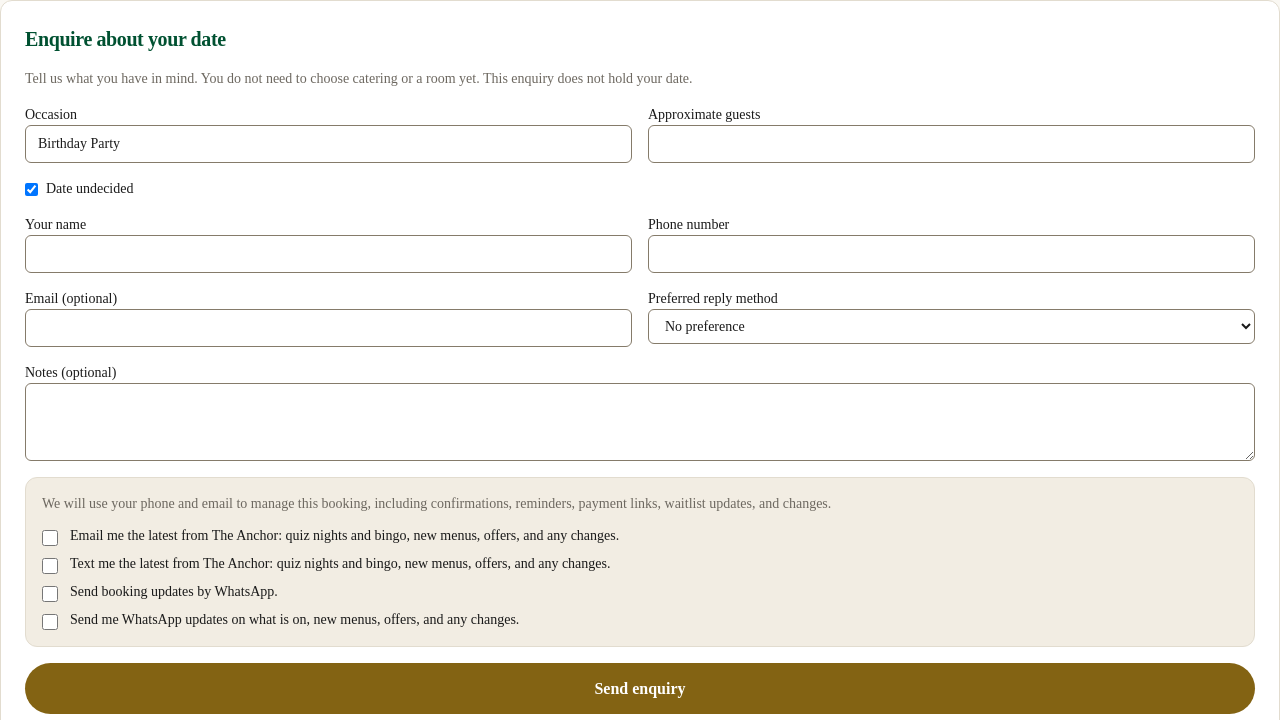
Scenario: undecided enquiry keeps occasion, space, large party and explicit consent without a dummy date or booking items
Type "250" into the number field labelled "Approximate guests" at x=952, y=144, box [648, 125, 1255, 163]
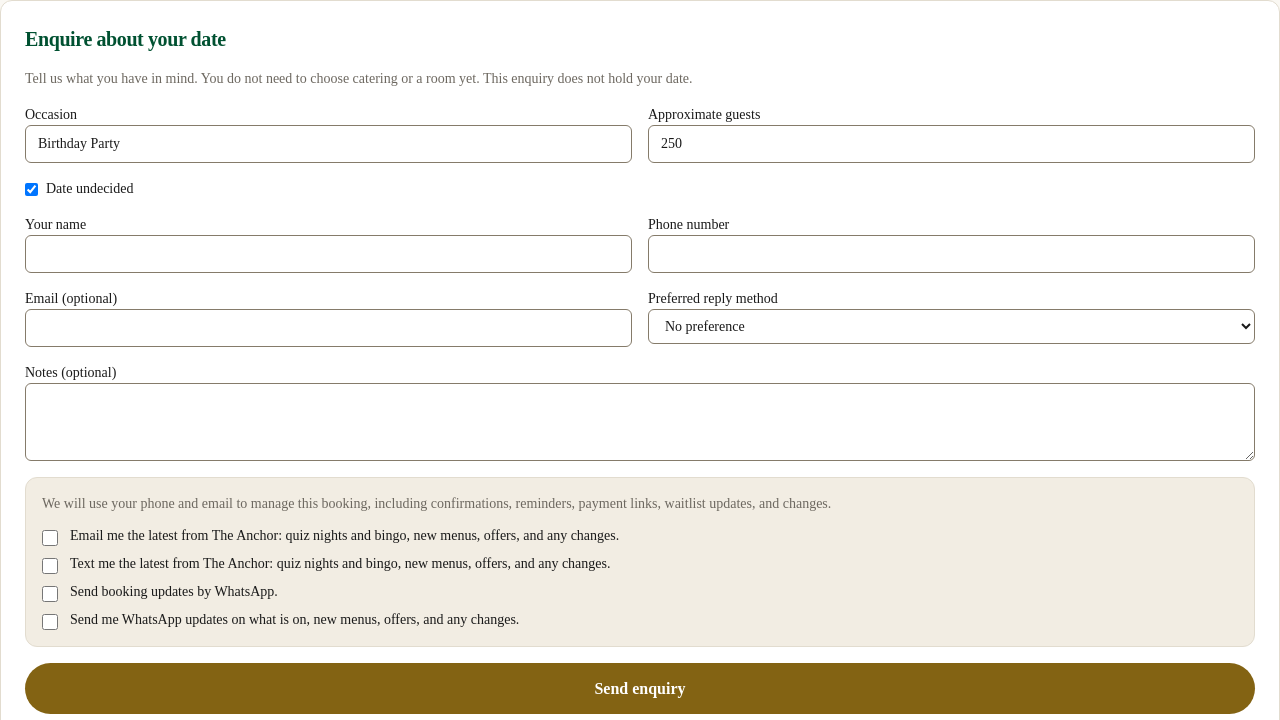
Type "Test Guest" into the field labelled "Your name" at x=328, y=254, box [25, 235, 632, 273]
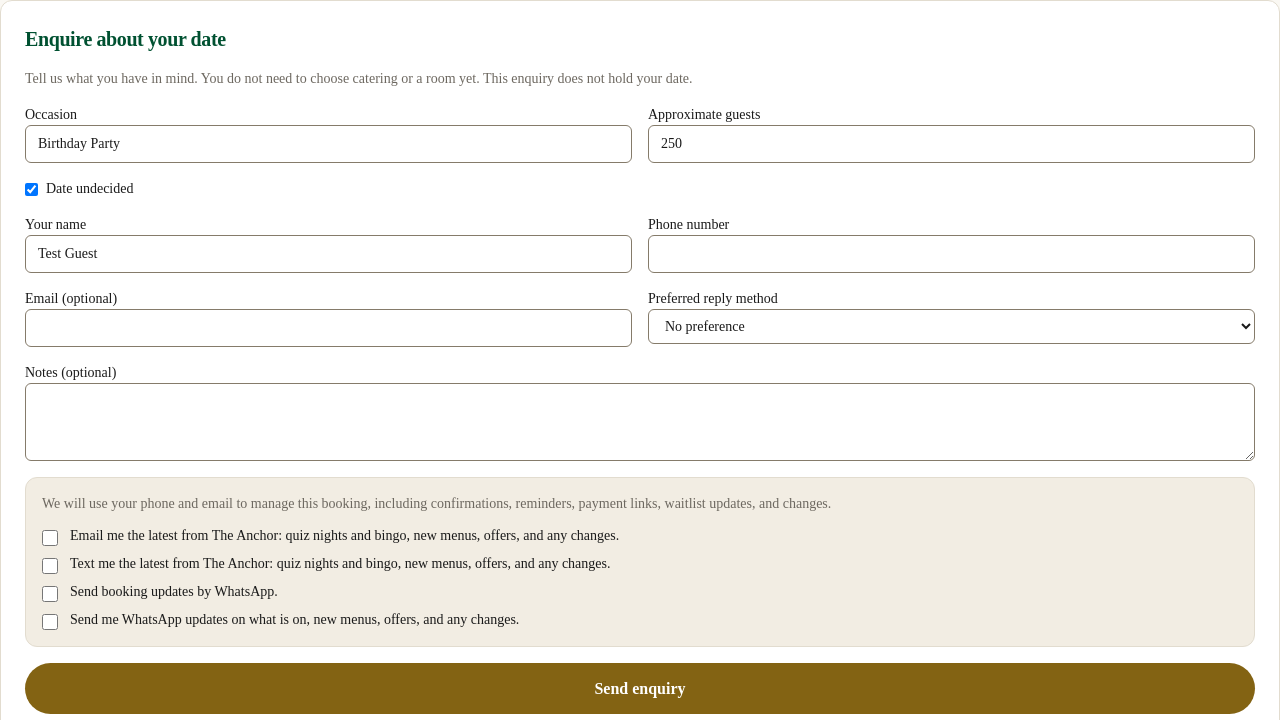
Type "+447700900000" into the field labelled "Phone number" at x=952, y=254, box [648, 235, 1255, 273]
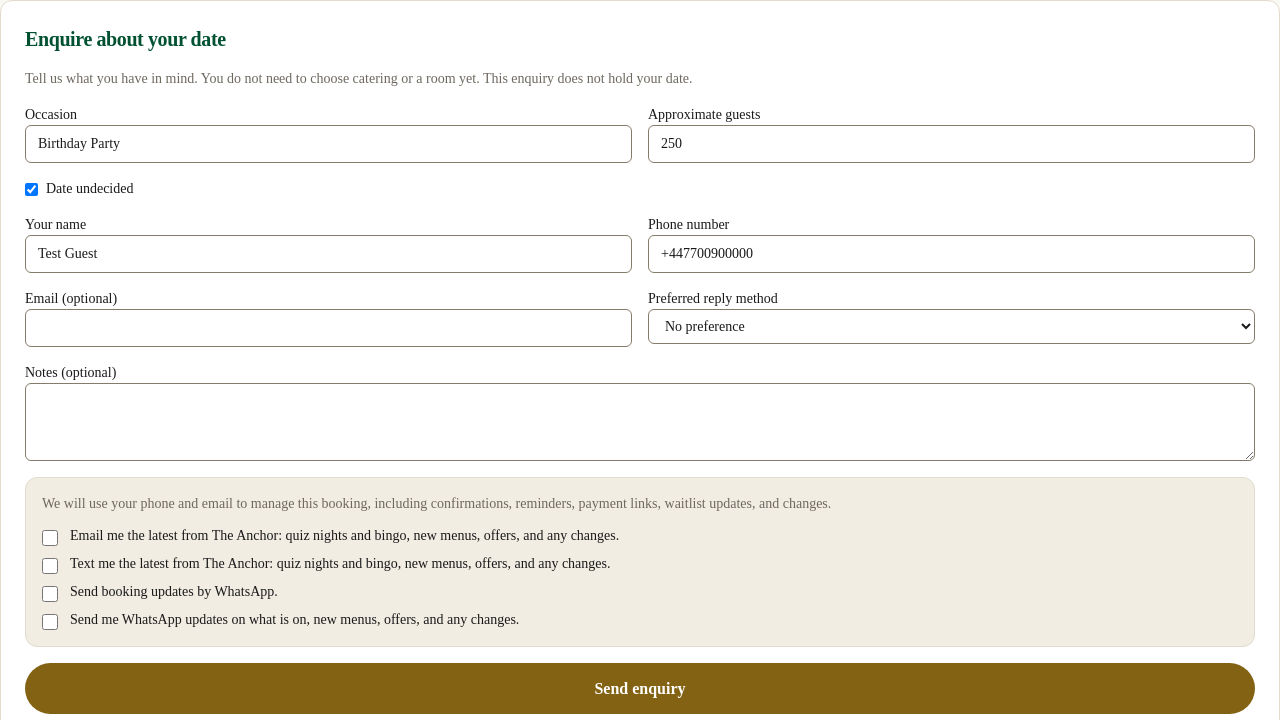
Submit the form named "Short private hire enquiry"
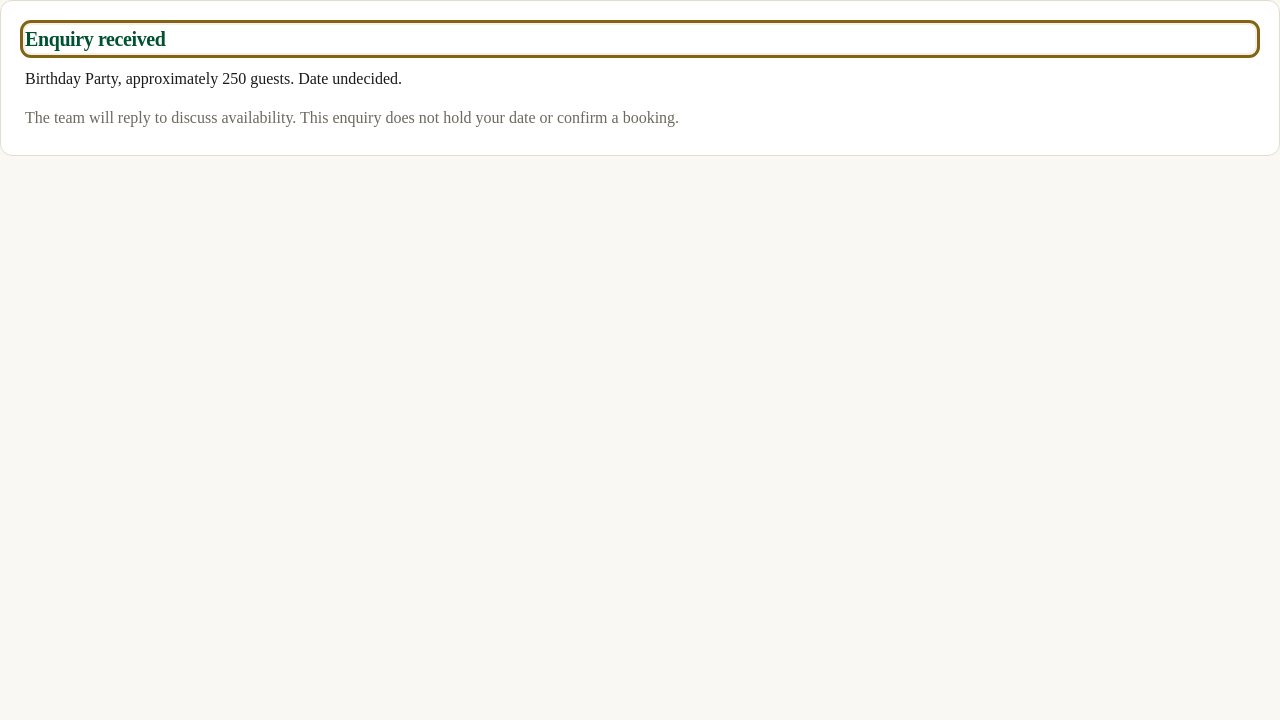
Check: the heading "Enquiry received" is shown, box [25, 25, 1255, 53]
Check: the text "does not hold your date" is shown, box [25, 109, 679, 126]
